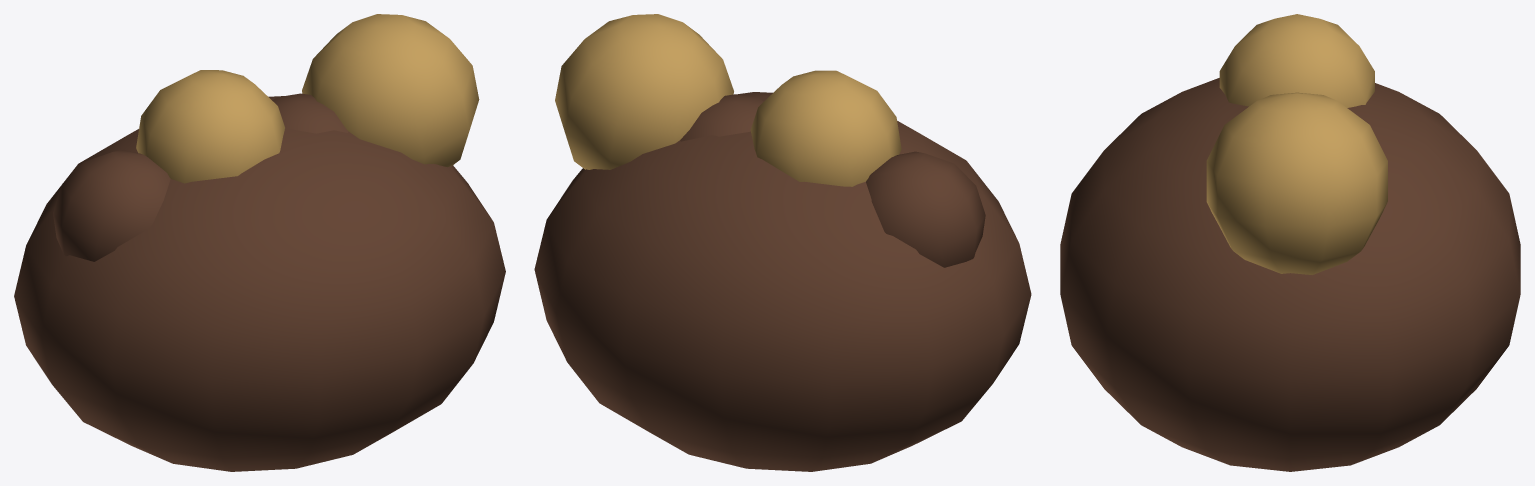
File: capCut_hair.glb
The picture shows the model from 3 angles, left to right: view 1: azimuth 30°, elevation 25°; view 2: azimuth 150°, elevation 25°; view 3: azimuth 270°, elevation 25°; orthographic projection. The views are drawn at different scales.
Visible parts, largest first — view 1: hair_cap, hair_detail_4, hair_detail_2, hair_detail_1, hair_detail_3; view 2: hair_cap, hair_detail_4, hair_detail_2, hair_detail_1, hair_detail_3; view 3: hair_cap, hair_detail_4, hair_detail_2.
Boxes of the visible parts, box(x1,y1,x2,y2) form: hair_cap: box(14, 96, 505, 471); hair_detail_4: box(302, 14, 479, 167); hair_detail_2: box(136, 70, 284, 183); hair_detail_1: box(53, 150, 170, 261); hair_detail_3: box(272, 93, 348, 133); hair_cap: box(534, 92, 1031, 471); hair_detail_4: box(555, 14, 733, 169); hair_detail_2: box(750, 70, 901, 186); hair_detail_1: box(866, 151, 985, 267); hair_detail_3: box(680, 94, 763, 141); hair_cap: box(1060, 78, 1520, 471); hair_detail_4: box(1206, 92, 1387, 274); hair_detail_2: box(1219, 14, 1374, 107).
Size of the model in its own units: 0.784 by 0.664 by 0.6824.
